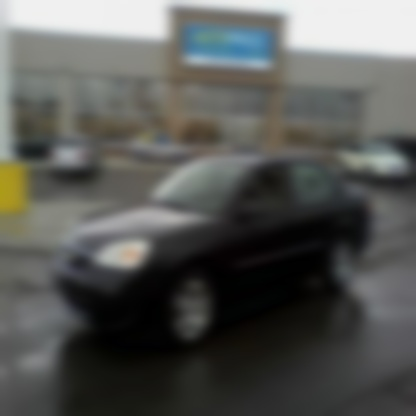Vehicle: (54, 158, 372, 348)
